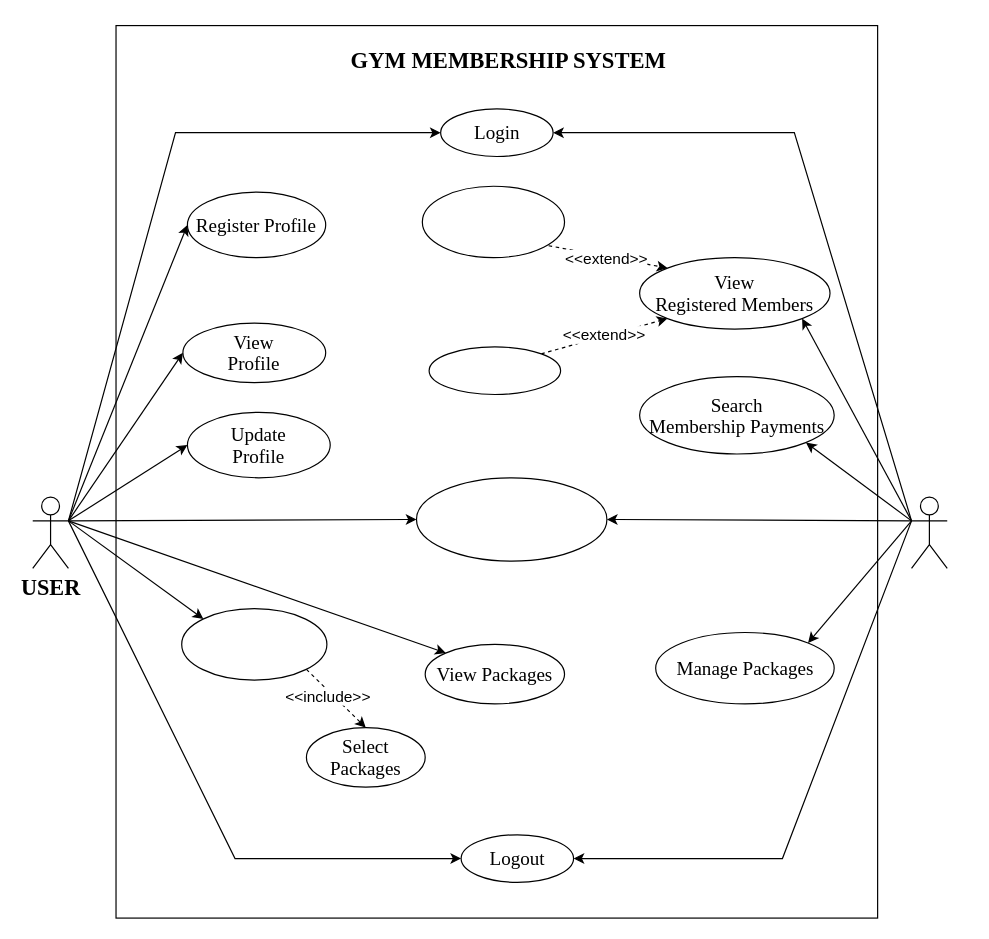
This 989x939 diagram has some shape labels left out. The box of each missing label's shape, as (x1, y1, x2, y2) in pixels:
ADMIN: (910, 496, 947, 568)
Filter Members: (428, 346, 561, 394)
Make Online Payment: (181, 607, 327, 680)
Search Registered Members: (421, 185, 565, 258)
View Membership Payments History: (415, 477, 607, 561)
